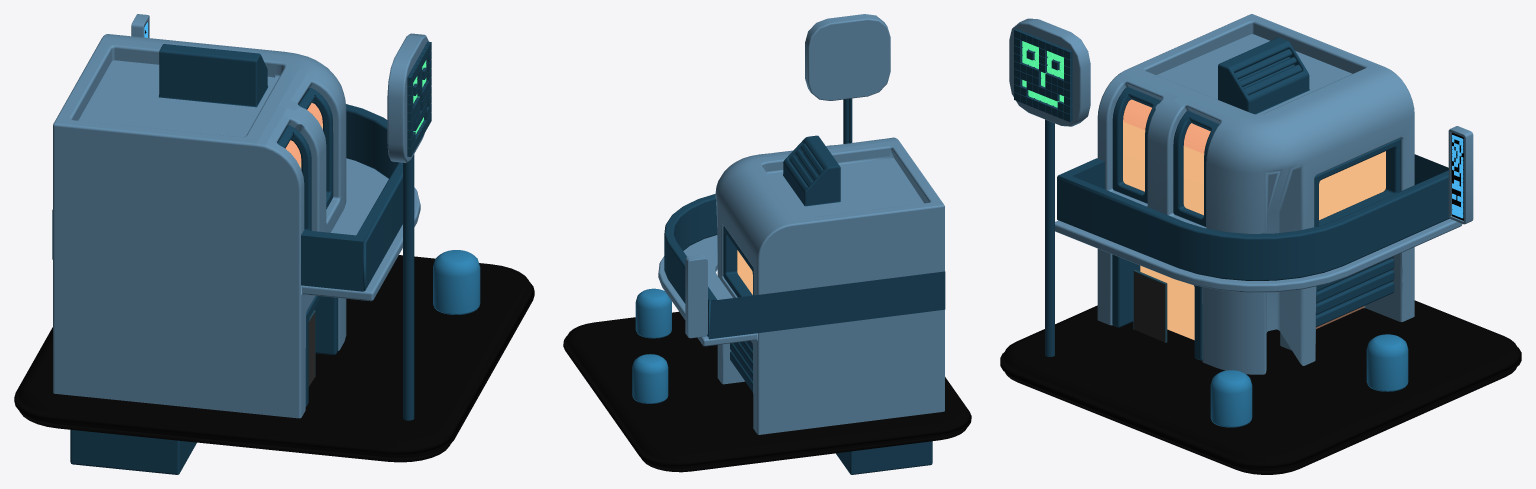
3 renders of one model, left to right at view 1: azimuth 30°, elevation 25°; view 2: azimuth 150°, elevation 25°; view 3: azimuth 270°, elevation 25°, orthographic. The views are drawn at different scales.
Parts seen in each view (by area): view 1: Plane.001, Plane, Plane.003, Plane.011, Plane.002, Vert, Circle, Plane.009, Plane.004, Plane.012, Plane.006; view 2: Plane.001, Plane, Plane.003, Plane.009, Plane.011, Plane.002, Plane.008, Circle.001, Circle, Plane.005, Plane.007, Vert; view 3: Plane.001, Plane, Plane.003, Plane.002, Plane.011, Plane.004, Plane.012, Plane.009, Plane.007, Vert, Circle, Circle.001 (+7 smaller).
Part boxes in pixels (x1=…): Plane.001: x1=53, y1=34, x2=346, y2=418; Plane: x1=14, y1=255, x2=534, y2=462; Plane.003: x1=52, y1=104, x2=402, y2=474; Plane.011: x1=159, y1=44, x2=267, y2=107; Plane.002: x1=301, y1=158, x2=420, y2=301; Vert: x1=403, y1=154, x2=414, y2=420; Circle: x1=433, y1=250, x2=480, y2=314; Plane.009: x1=387, y1=33, x2=428, y2=162; Plane.004: x1=277, y1=88, x2=333, y2=230; Plane.012: x1=407, y1=41, x2=431, y2=156; Plane.006: x1=305, y1=295, x2=338, y2=407; Plane.001: x1=715, y1=137, x2=944, y2=434; Plane: x1=563, y1=311, x2=971, y2=472; Plane.003: x1=664, y1=194, x2=945, y2=474; Plane.009: x1=805, y1=14, x2=890, y2=100; Plane.011: x1=783, y1=135, x2=840, y2=206; Plane.002: x1=658, y1=235, x2=757, y2=346; Plane.008: x1=685, y1=255, x2=707, y2=338; Circle.001: x1=632, y1=354, x2=668, y2=403; Circle: x1=635, y1=288, x2=671, y2=338; Plane.005: x1=723, y1=226, x2=753, y2=297; Plane.007: x1=730, y1=341, x2=752, y2=391; Vert: x1=843, y1=98, x2=852, y2=143; Plane.001: x1=1097, y1=14, x2=1414, y2=374; Plane: x1=1000, y1=300, x2=1521, y2=474; Plane.003: x1=1057, y1=154, x2=1449, y2=280; Plane.002: x1=1055, y1=218, x2=1462, y2=292; Plane.011: x1=1218, y1=37, x2=1309, y2=114; Plane.004: x1=1112, y1=87, x2=1219, y2=226; Plane.012: x1=1014, y1=29, x2=1072, y2=121; Plane.009: x1=1009, y1=18, x2=1090, y2=126; Plane.007: x1=1316, y1=256, x2=1394, y2=327; Vert: x1=1045, y1=119, x2=1054, y2=356; Circle: x1=1210, y1=370, x2=1252, y2=427; Circle.001: x1=1366, y1=334, x2=1408, y2=391.
Size of what is drawn, in the model's own units: 34.77 by 28.97 by 34.77.
